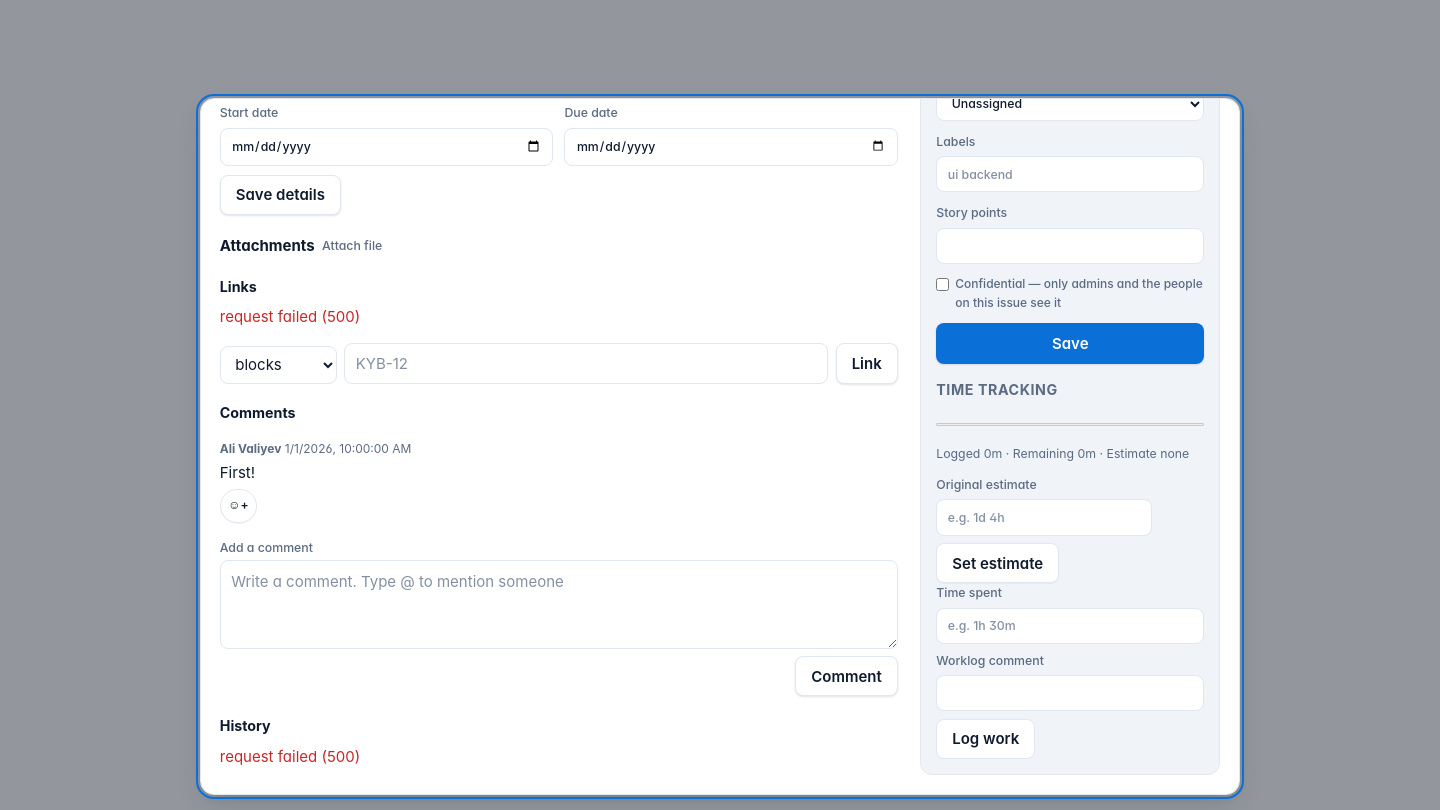
Test: IssuePanel (KYB-S17) › AC3: lists and adds comments
(page scrolled)
Expected: the text "First!" is shown, [220,463,255,482]
Type "On it" into the dropdown labelled "Add a comment". click: (559, 605)
box: [220,560,898,649]
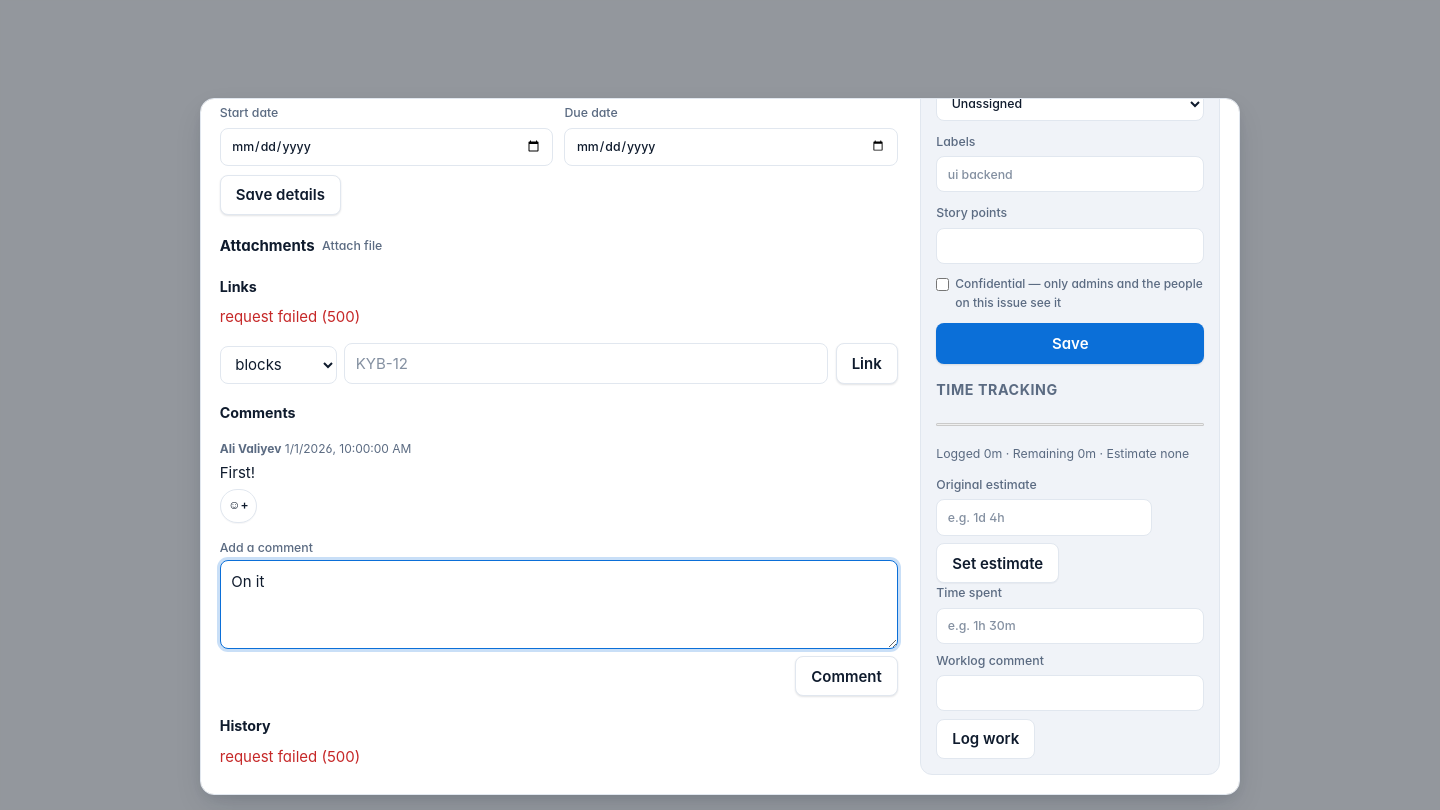
Click the button "Comment". click: (846, 676)
box: [795,656,898,696]
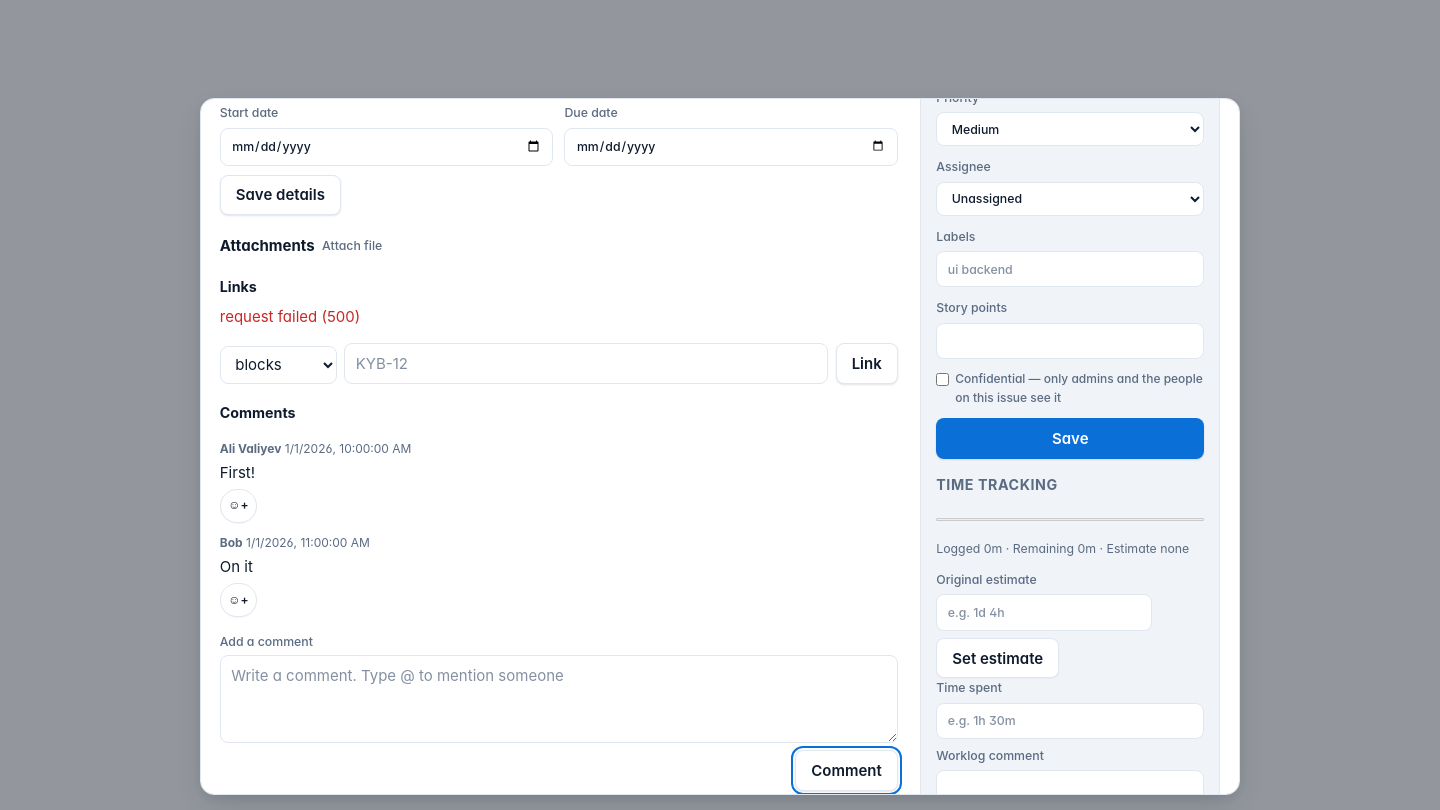
Expected: the text "On it" is shown, [220,557,253,576]
